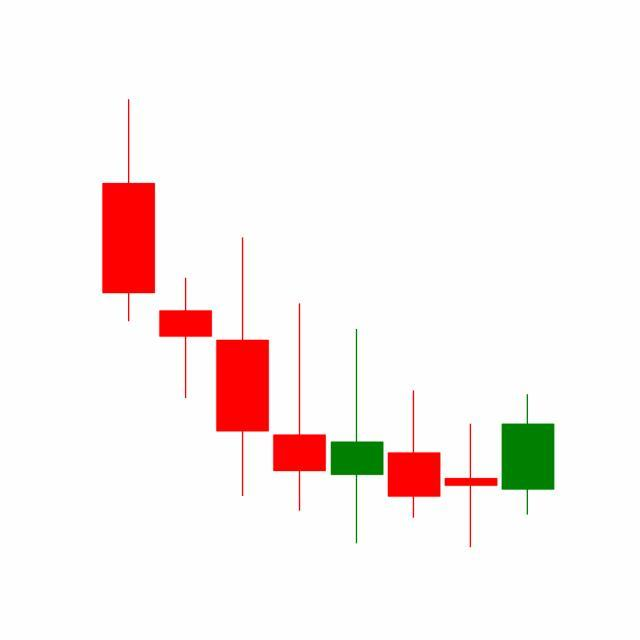Hikkake Pattern: (214, 234, 501, 549)
